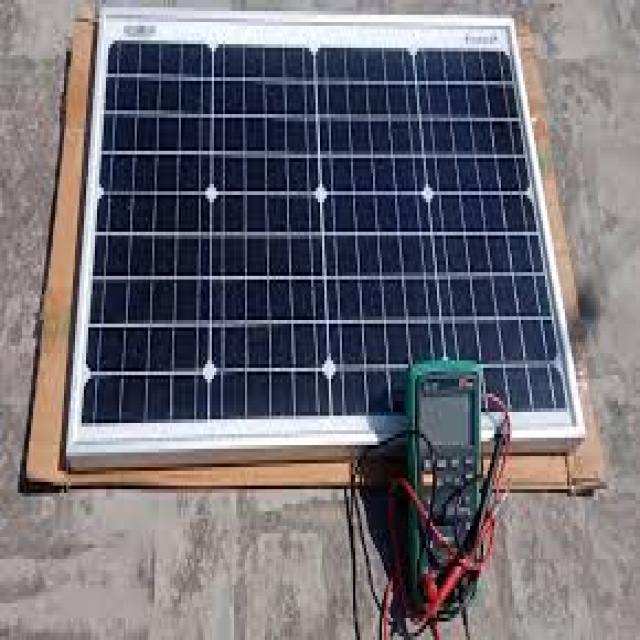no faulty: (83, 26, 545, 400)
